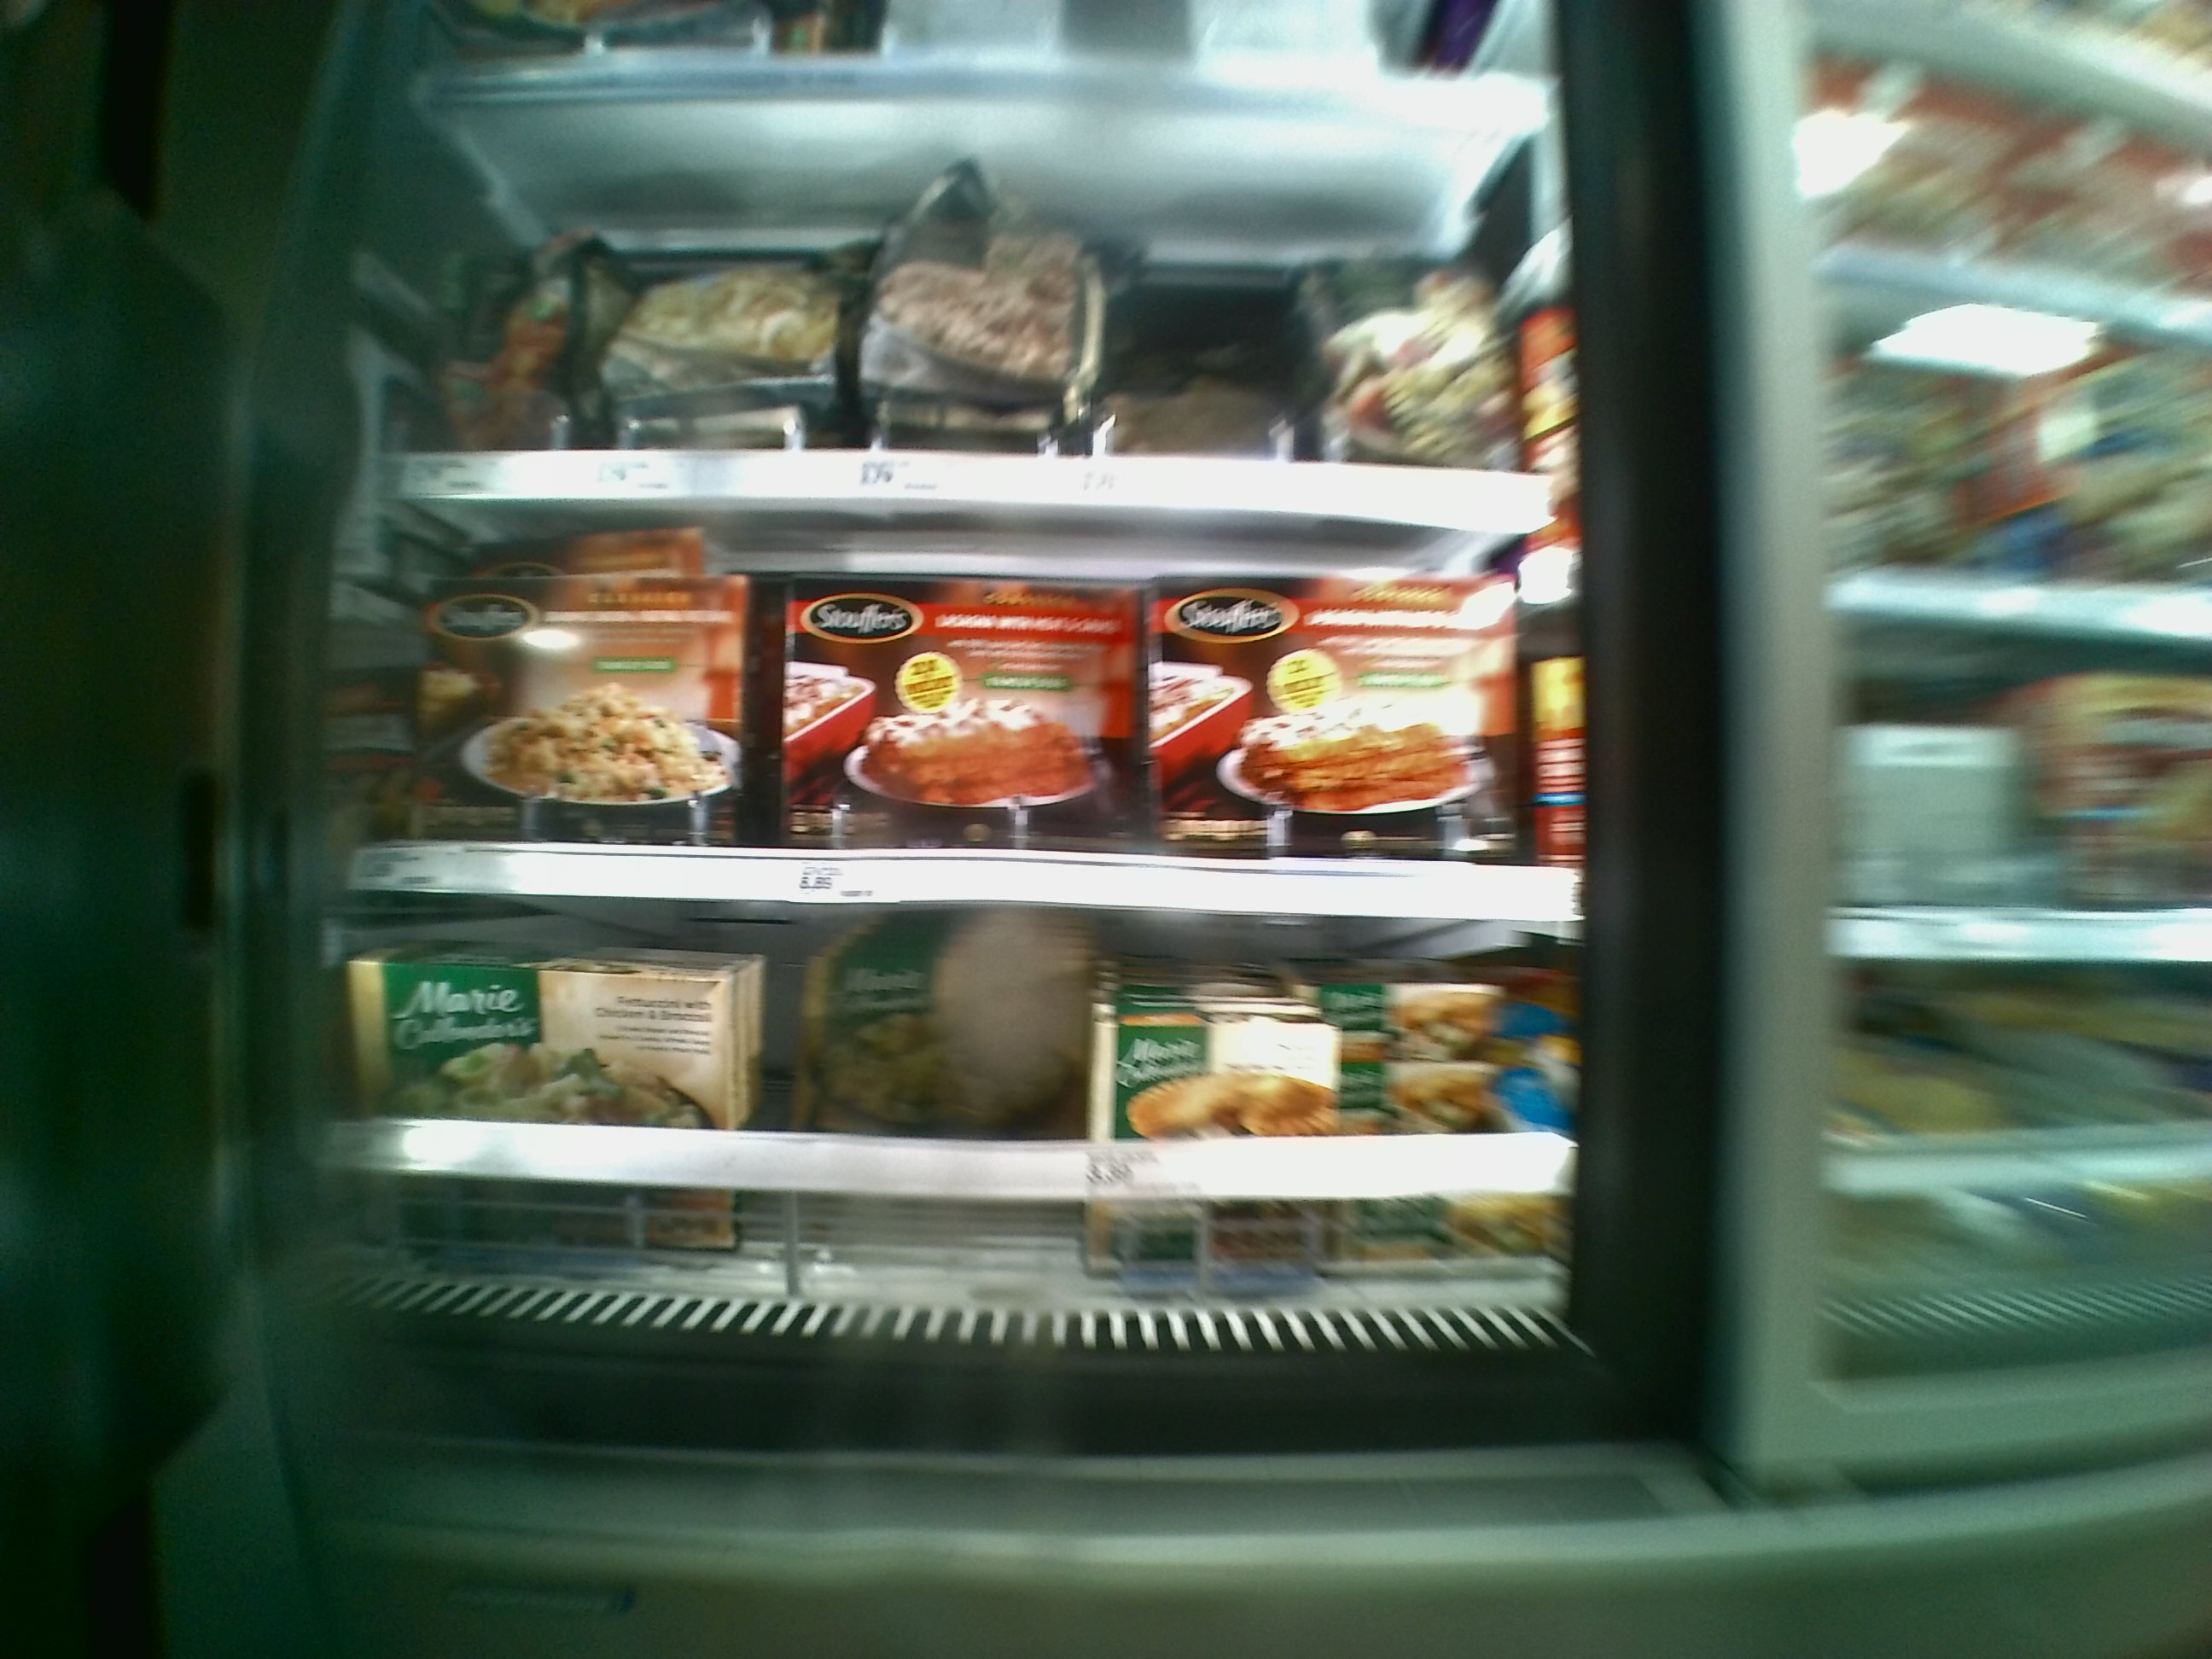shelf: (364, 903, 1587, 1335), (387, 99, 1568, 528), (374, 526, 1578, 934)
